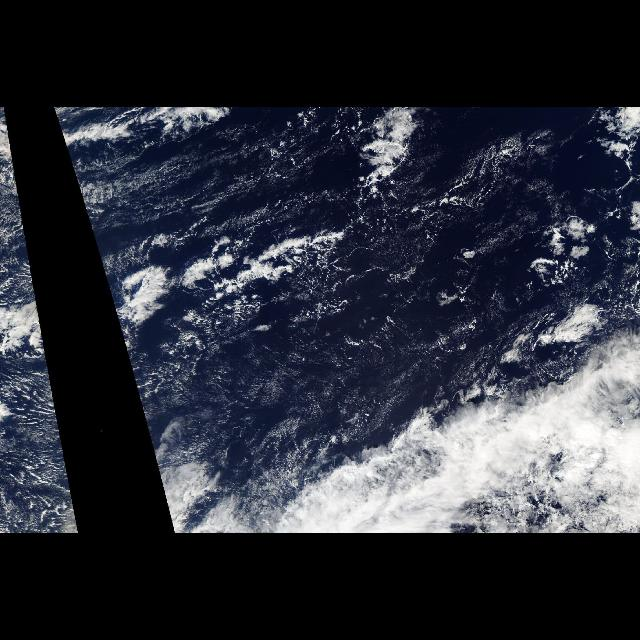Gravel: (114, 236, 390, 330), (345, 124, 449, 196)
Sugar: (232, 266, 500, 428), (65, 143, 331, 227)
